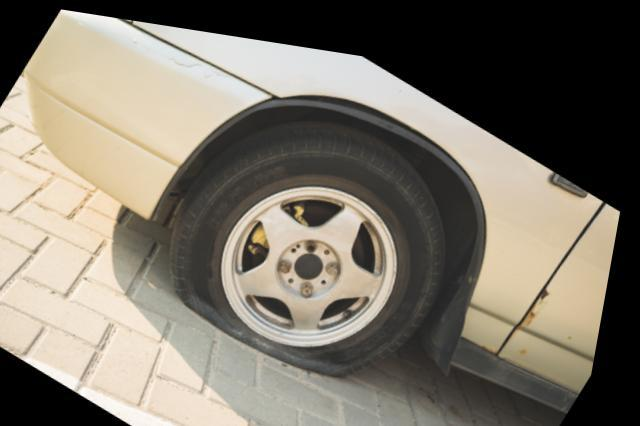tire flat: (179, 109, 451, 367)
